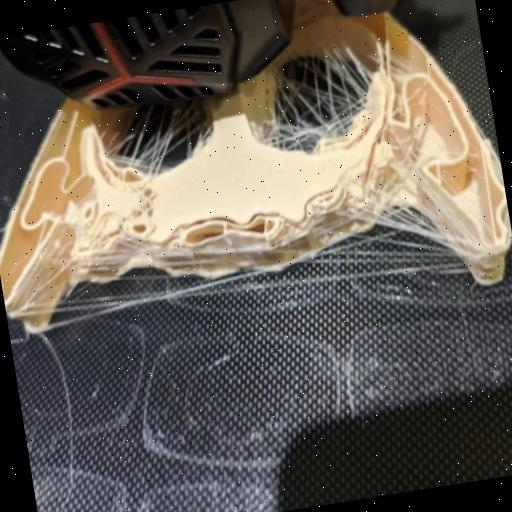stringing: (272, 39, 377, 149), (100, 92, 208, 182), (376, 192, 428, 234)
